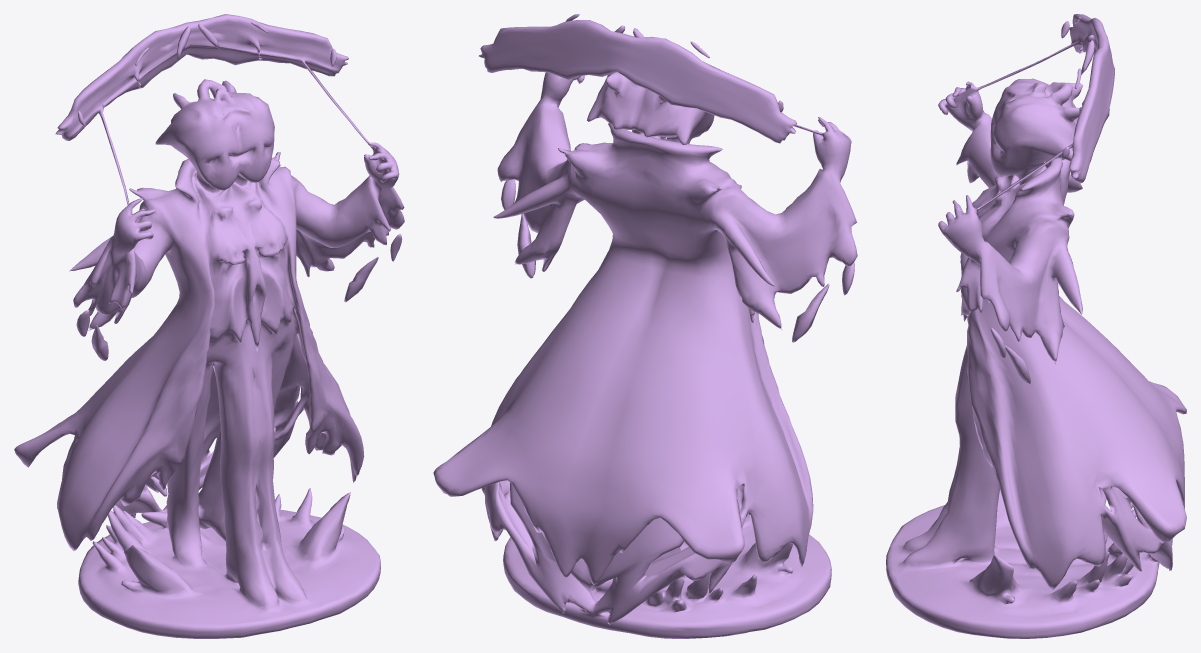
File: requiem-choir.glb
3 renders of one model, left to right at view 1: azimuth 30°, elevation 25°; view 2: azimuth 150°, elevation 25°; view 3: azimuth 270°, elevation 25°, orthographic. The views are drawn at different scales.
Visible parts, largest first — view 1: model; view 2: model; view 3: model.
Boxes of the visible parts, x1,y1,x2,y2 form: model: (14,14,404,638); model: (433,14,857,638); model: (886,14,1186,638).
Bounding box in the file's own units: 1.23 × 1.88 × 0.9573.
